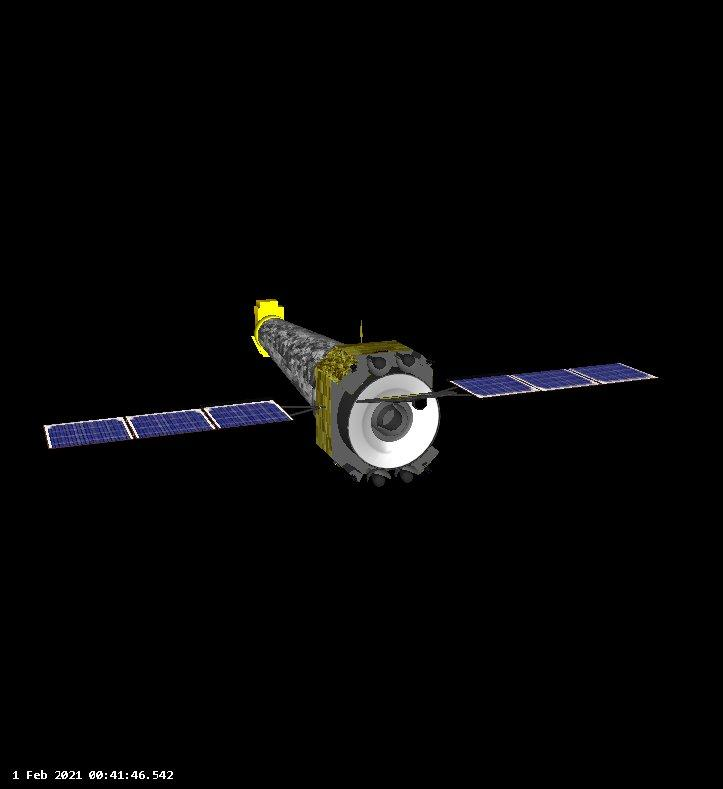antenna: (358, 319, 365, 344)
body: (251, 298, 440, 486)
solar: (43, 399, 295, 450), (450, 359, 661, 399)
thruster: (367, 354, 389, 372), (395, 352, 417, 368), (369, 473, 386, 488), (399, 469, 415, 483)
